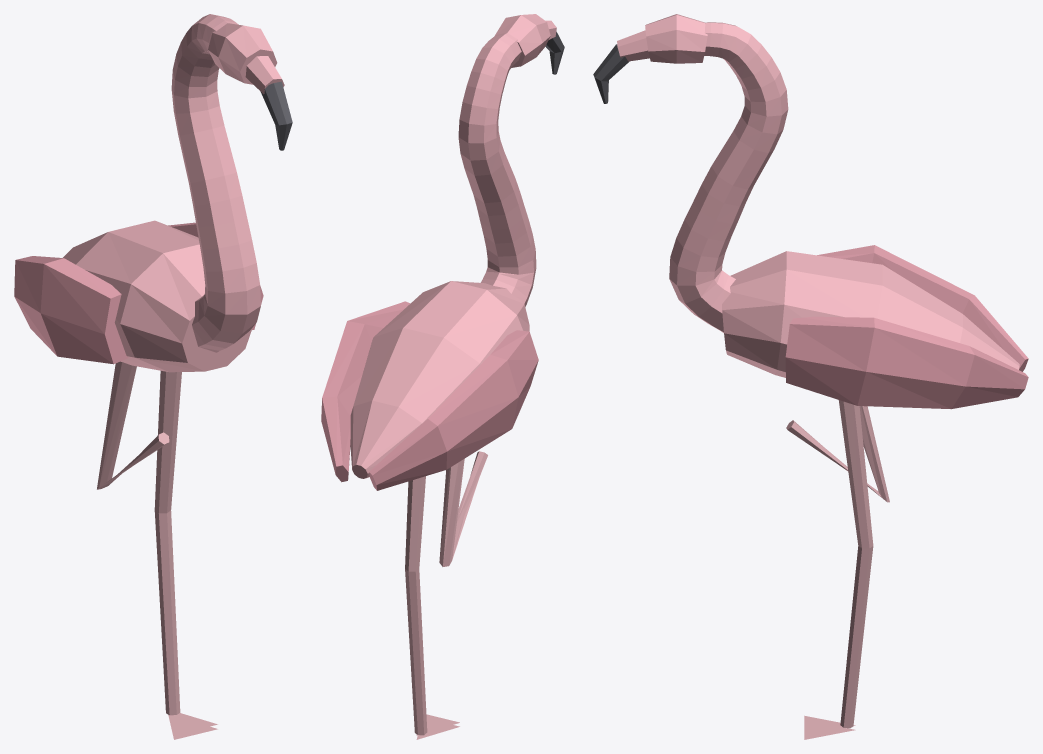
Rendered from flamingo.glb.
3 views of the same model, side by side, from view 1: azimuth 30°, elevation 25°; view 2: azimuth 150°, elevation 25°; view 3: azimuth 270°, elevation 25° (orthographic). The views are drawn at different scales.
Visible parts, largest first — view 1: flamingo; view 2: flamingo; view 3: flamingo.
Part boxes in pixels (x1,y1,x2,y2): flamingo: [14, 14, 292, 739]; flamingo: [321, 14, 564, 739]; flamingo: [593, 14, 1028, 739].
Bounding box in the file's own units: 0.3416 × 1.25 × 0.6997.
